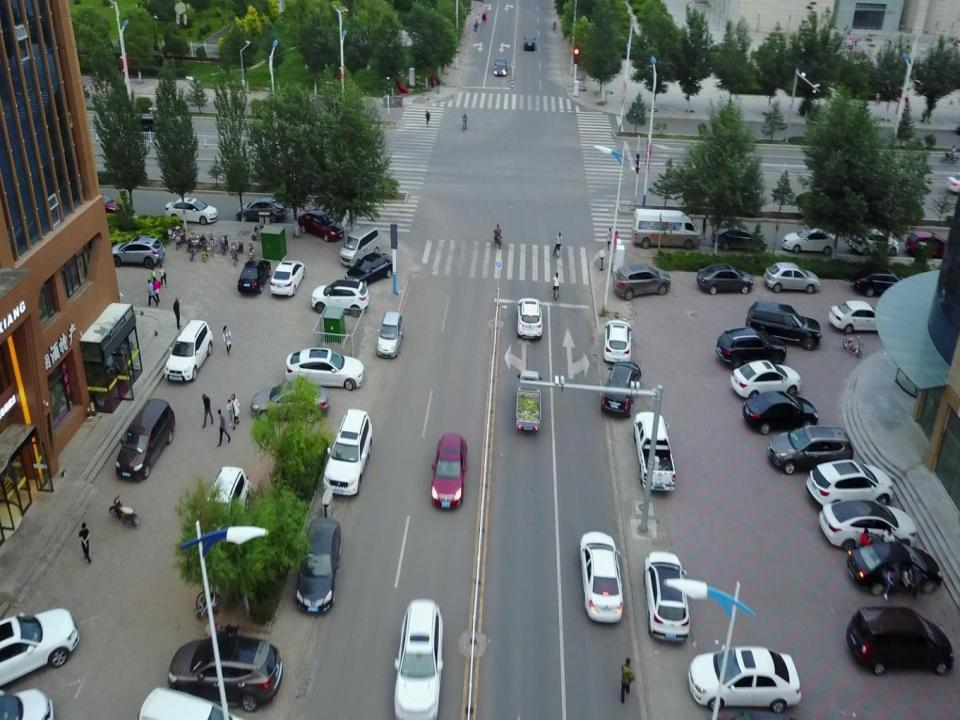car: (167, 636, 281, 712), (685, 646, 802, 712), (845, 605, 954, 675), (0, 608, 78, 687), (392, 598, 442, 717), (821, 502, 917, 559), (846, 542, 943, 598), (116, 400, 174, 484), (198, 465, 250, 557), (323, 408, 374, 499), (767, 424, 855, 476), (806, 460, 894, 512), (296, 518, 342, 614), (642, 552, 690, 642), (580, 530, 624, 624), (746, 302, 822, 351), (164, 317, 214, 383), (634, 412, 675, 492), (742, 391, 818, 434), (284, 349, 365, 388), (428, 432, 468, 509), (250, 383, 329, 421), (716, 328, 786, 366), (600, 360, 641, 420), (732, 362, 800, 398), (309, 279, 369, 317), (827, 300, 887, 335), (850, 264, 910, 298), (614, 265, 670, 301), (107, 236, 164, 269), (344, 252, 393, 290), (697, 264, 753, 296), (764, 264, 820, 296), (296, 206, 344, 242), (713, 224, 768, 255), (782, 226, 838, 255), (848, 223, 900, 254), (162, 197, 219, 224), (906, 229, 953, 260), (79, 193, 121, 226), (270, 260, 306, 298), (376, 310, 404, 356), (122, 112, 168, 140), (236, 199, 287, 224), (236, 257, 270, 294), (604, 319, 631, 364), (516, 296, 542, 339), (494, 58, 508, 78), (523, 35, 536, 51)
van: (630, 208, 702, 250), (340, 223, 379, 268)
